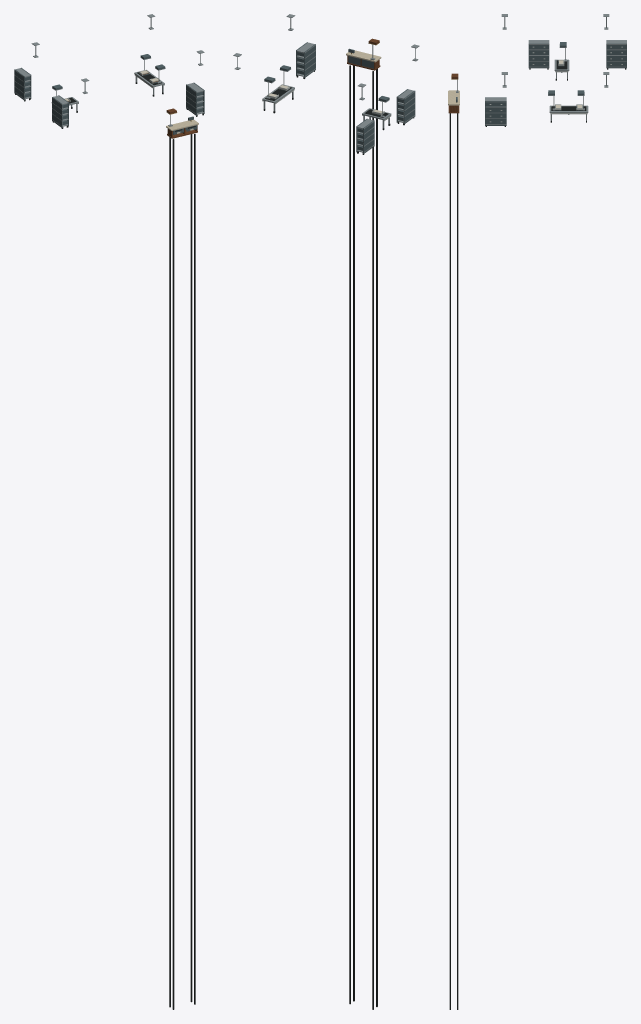
Rendered from G8_LIBRARY_SERVICE_r002_unbatched.glb.
The picture shows the model from 3 angles, left to right: view 1: azimuth 30°, elevation 25°; view 2: azimuth 150°, elevation 25°; view 3: azimuth 270°, elevation 25°; orthographic projection. The views are drawn at different scales.
Parts seen in each view (by area): view 1: G8L_PublicReturns_Pad(-1.0, 0.28), G8L_PublicReturns_Pad(1.0, -0.28), G8L_PublicReturns_Pad(-1.0, -0.28), G8L_PublicReturns_Pad(1.0, 0.28); view 2: G8L_PublicReturns_Pad(1.0, -0.28), G8L_PublicReturns_Pad(1.0, 0.28), G8L_PublicReturns_Pad(-1.0, 0.28), G8L_PublicReturns_Pad(-1.0, -0.28); view 3: G8L_PublicReturns_Pad(1.0, -0.28), G8L_PublicReturns_Pad(1.0, 0.28), G8L_ReadyCollectionHold_BackFrontPost1, G8L_DispatchCollectionHold_BackFrontPost1, G8L_InspectionFolioHold_BackFrontPost1.
Part boxes in pixels (x1=…): G8L_PublicReturns_Pad(-1.0, 0.28): x1=172, y1=139, x2=174, y2=1009; G8L_PublicReturns_Pad(1.0, -0.28): x1=190, y1=134, x2=192, y2=1002; G8L_PublicReturns_Pad(-1.0, -0.28): x1=169, y1=137, x2=170, y2=1007; G8L_PublicReturns_Pad(1.0, 0.28): x1=194, y1=134, x2=195, y2=1004; G8L_PublicReturns_Pad(1.0, -0.28): x1=349, y1=65, x2=350, y2=1004; G8L_PublicReturns_Pad(1.0, 0.28): x1=353, y1=65, x2=354, y2=1001; G8L_PublicReturns_Pad(-1.0, 0.28): x1=376, y1=68, x2=377, y2=1006; G8L_PublicReturns_Pad(-1.0, -0.28): x1=372, y1=71, x2=373, y2=1009; G8L_PublicReturns_Pad(1.0, -0.28): x1=457, y1=113, x2=458, y2=1009; G8L_PublicReturns_Pad(1.0, 0.28): x1=449, y1=113, x2=450, y2=1009; G8L_ReadyCollectionHold_BackFrontPost1: x1=528, y1=43, x2=549, y2=68; G8L_DispatchCollectionHold_BackFrontPost1: x1=485, y1=101, x2=506, y2=125; G8L_InspectionFolioHold_BackFrontPost1: x1=606, y1=43, x2=626, y2=68.
Bounding box in the file's own units: 12.13 × 82.76 × 14.07.
Materials: 9 (8 with a texture image).
